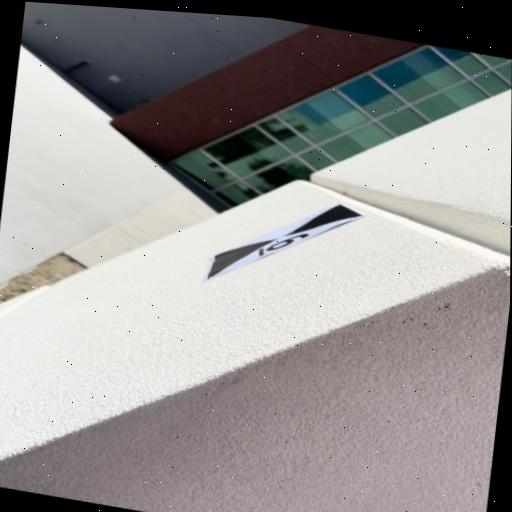target6: (206, 205, 363, 283)
